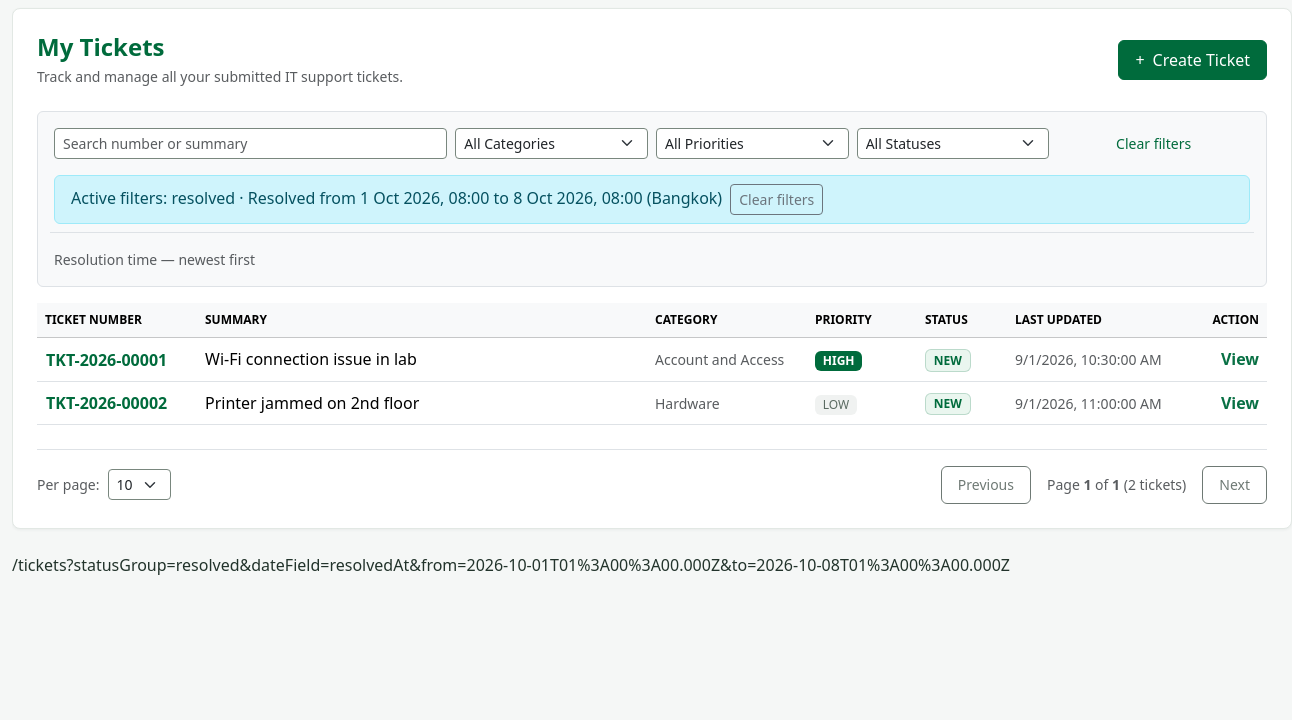
Scenario: MyTickets Component (C-07..C-12, FR-08, BR-19..BR-21, BR-24) › loads fixed dashboard filters from the URL and clears them as one view
expect the element with test id "ticket-dashboard-filters" shows "resolved": met, box [171,187,235,209]
expect the element with test id "ticket-dashboard-filters" shows "1 Oct 2026, 08:00": met, box [235,187,722,209]
Select "Hardware" in the 1st dropdown named "Filter by category": coordinates (552, 143) [455,128,648,159]
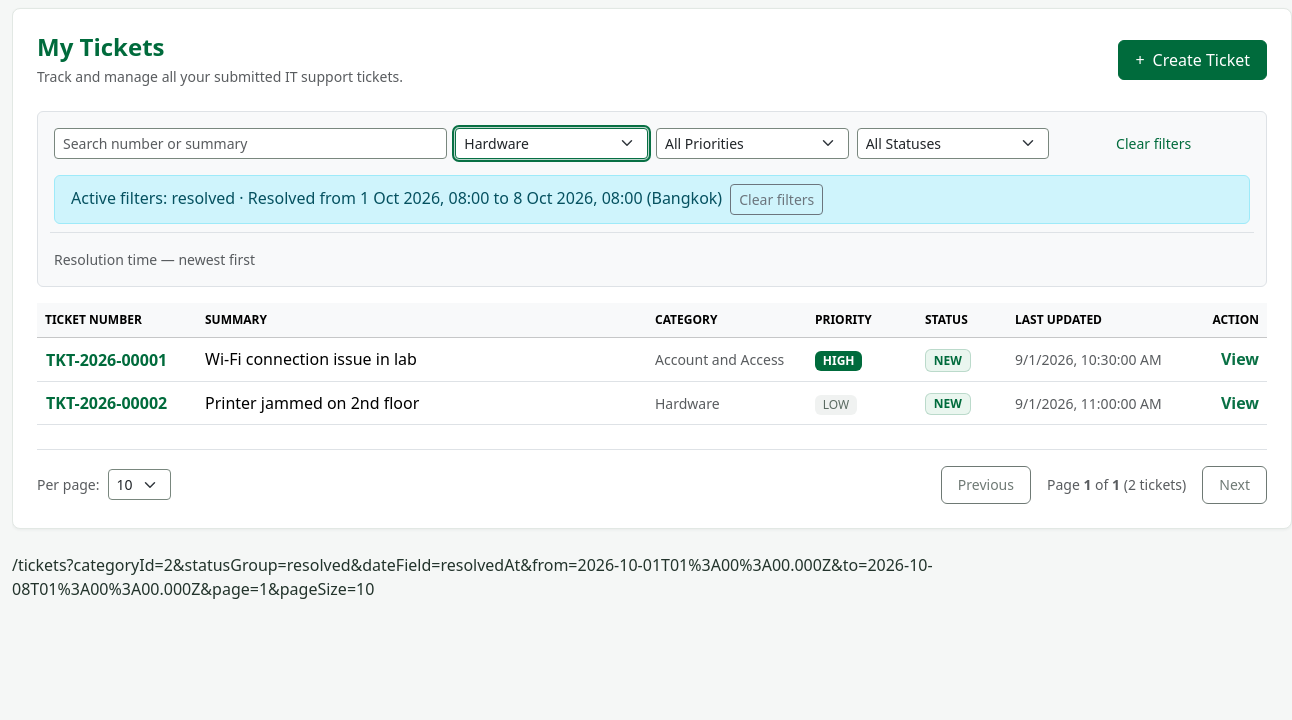
Click the 1st button "Clear filters": coordinates (1154, 143) [1057,129,1250,158]
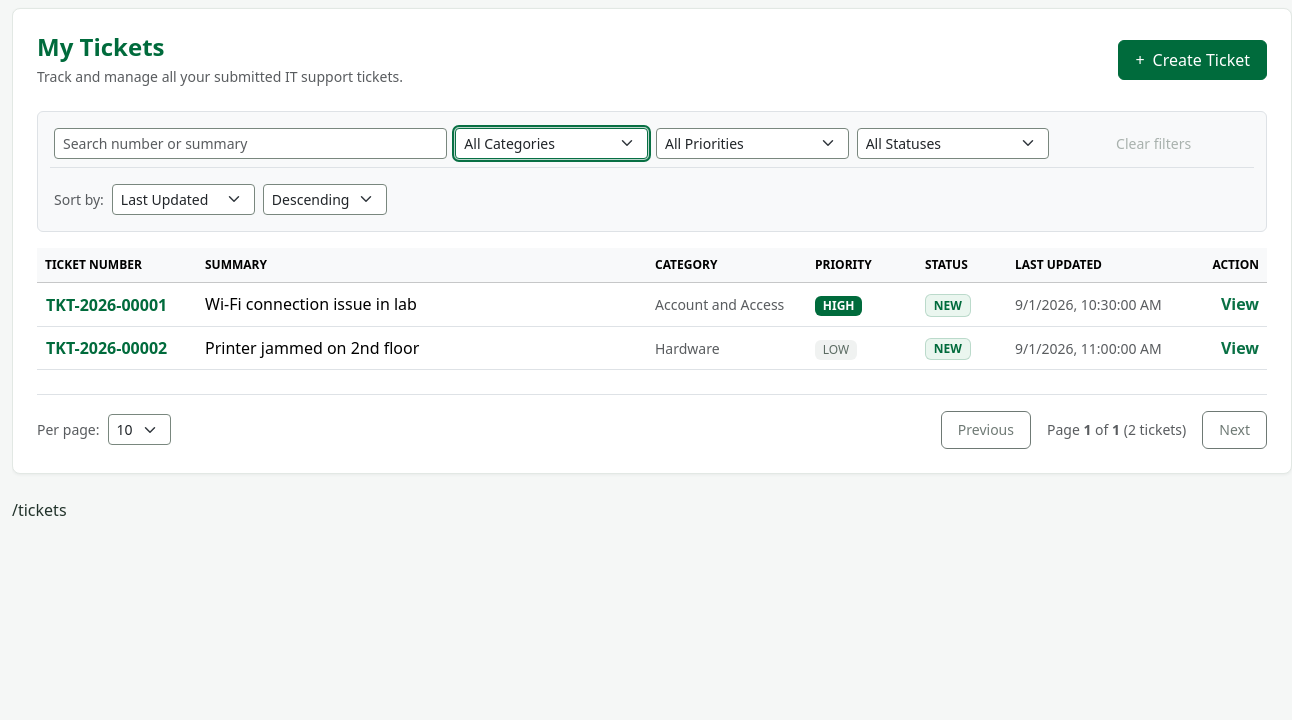
expect the element with test id "ticket-dashboard-filters" is gone: met
